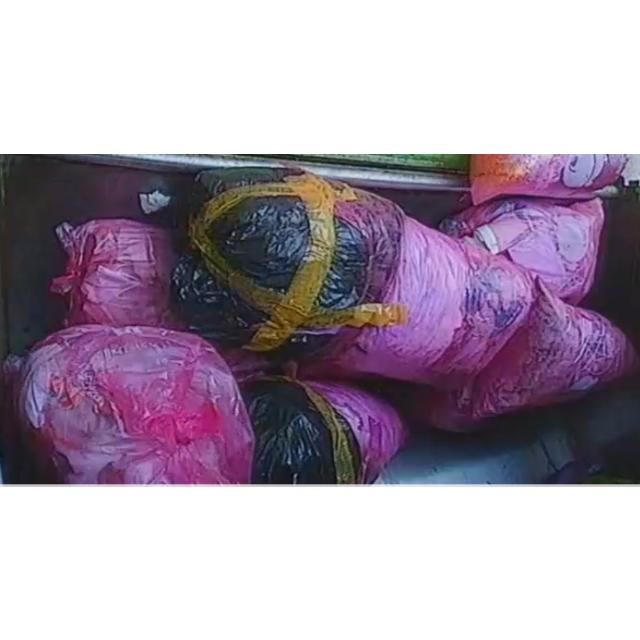other_trashbag: (172, 172, 534, 383), (5, 324, 254, 484), (428, 278, 638, 430), (241, 376, 405, 484), (440, 197, 604, 304), (51, 218, 172, 326), (470, 153, 626, 204)
